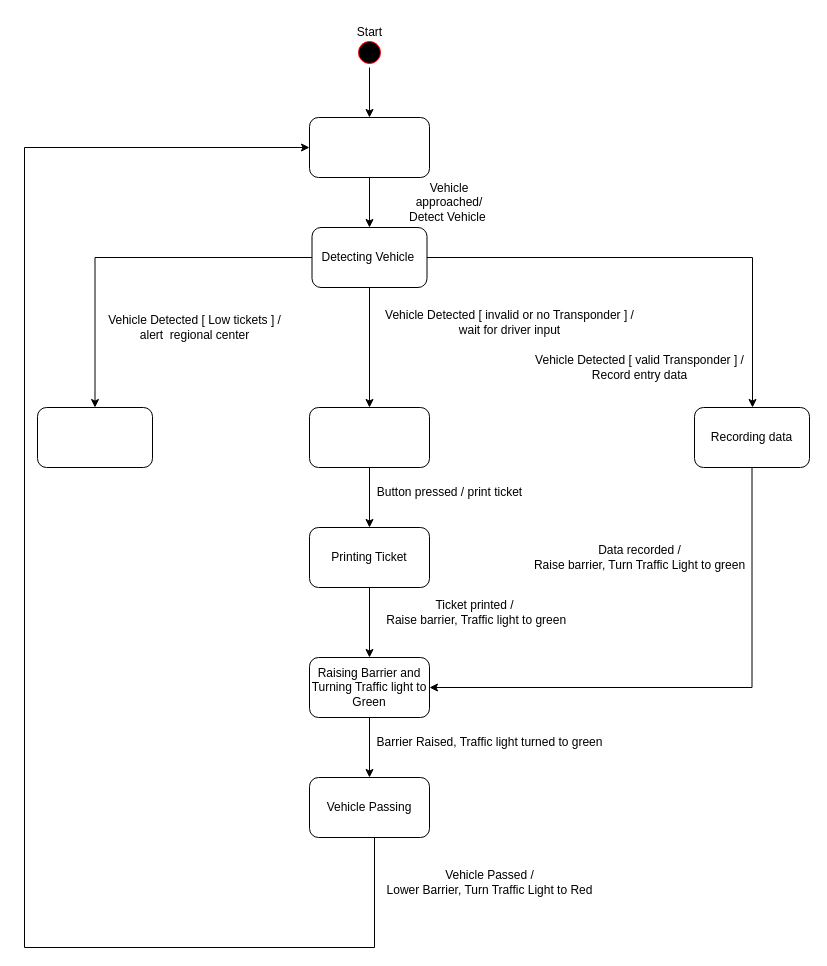
This 827x966 diagram has some shape labels left out. Each missing label, with the centre of its shape:
Alerting the regional toll center: the point at 94,437
Idle Toll both Open Traffic Light is Red Barrier is down: the point at 369,147
Waiting for driver to press the button: the point at 369,437
